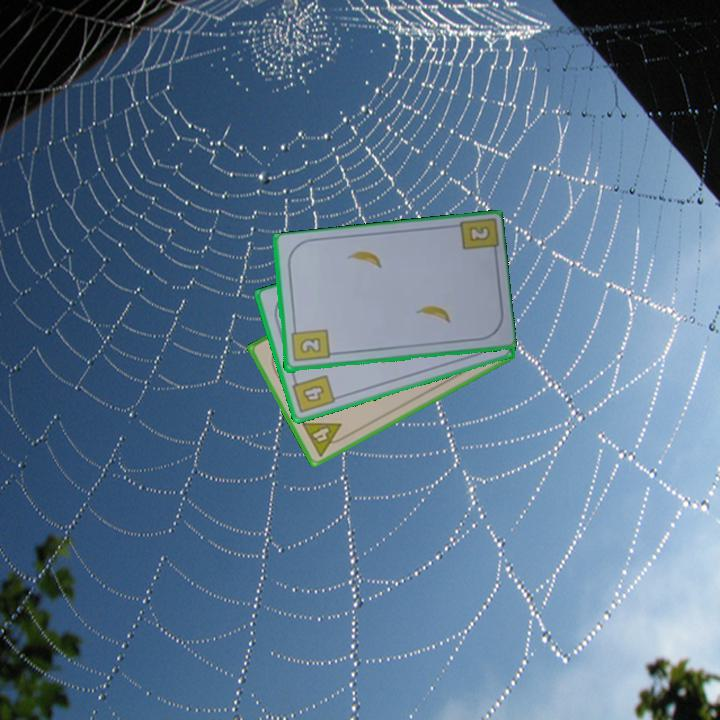2b: (287, 323, 332, 365), (467, 225, 491, 243)
4b: (289, 371, 338, 416)
4p: (298, 418, 350, 459)
